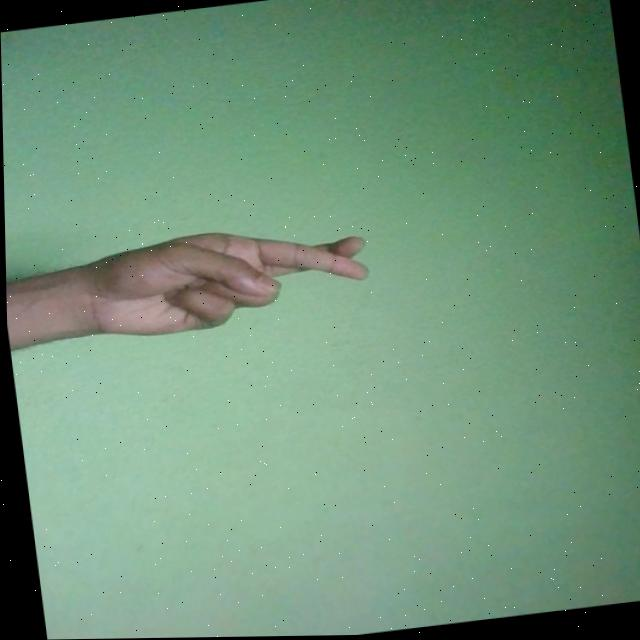Good Luck: (70, 215, 371, 344)
